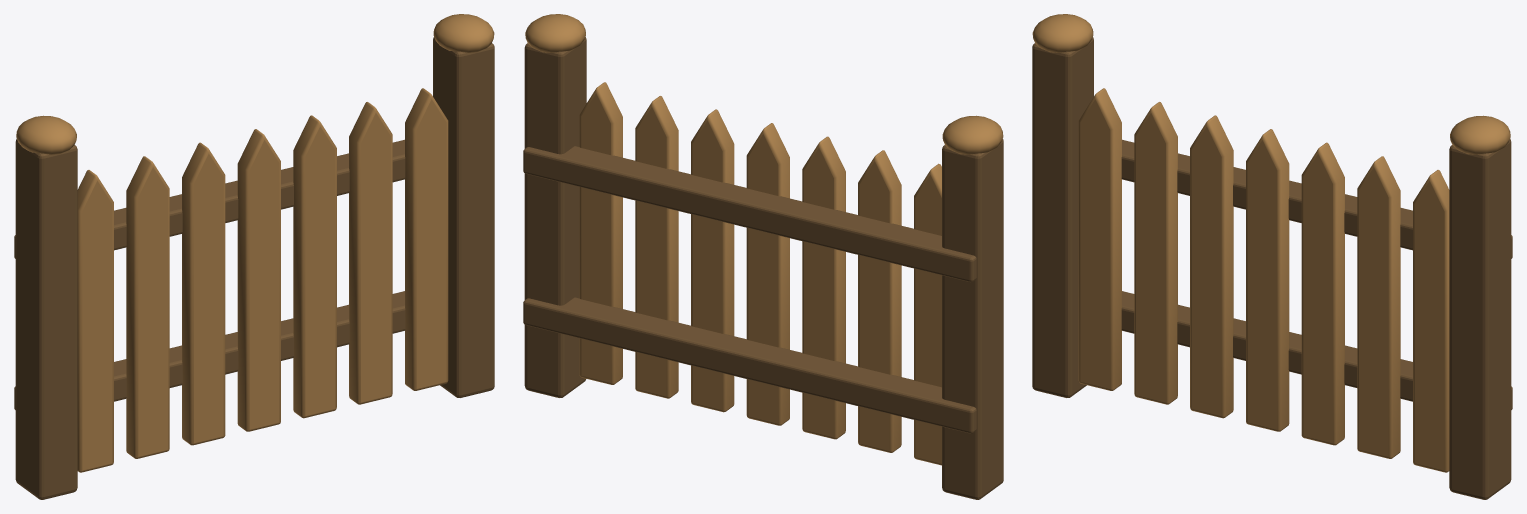
The model's file is garden_fence_module.glb.
3 views of the same model, side by side, from view 1: azimuth 30°, elevation 25°; view 2: azimuth 150°, elevation 25°; view 3: azimuth 330°, elevation 25° (orthographic).
Parts seen in each view (by area): view 1: GardenGeometryGeometry; view 2: GardenGeometryGeometry; view 3: GardenGeometryGeometry.
Part boxes in pixels (bbox=[...]): GardenGeometryGeometry: bbox=[14, 14, 494, 499]; GardenGeometryGeometry: bbox=[523, 14, 1003, 499]; GardenGeometryGeometry: bbox=[1032, 14, 1512, 499].
Size of the model in its own units: 1.98 by 1.48 by 0.245.
